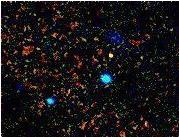star: (93, 37, 123, 67)
